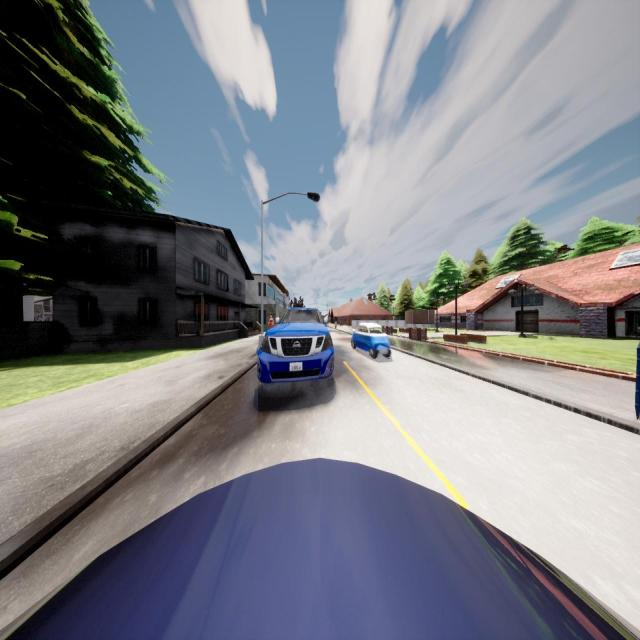Pedestrian: (268, 316, 274, 328)
Vehicle: (0, 457, 640, 640), (257, 307, 334, 383), (351, 323, 391, 358)
